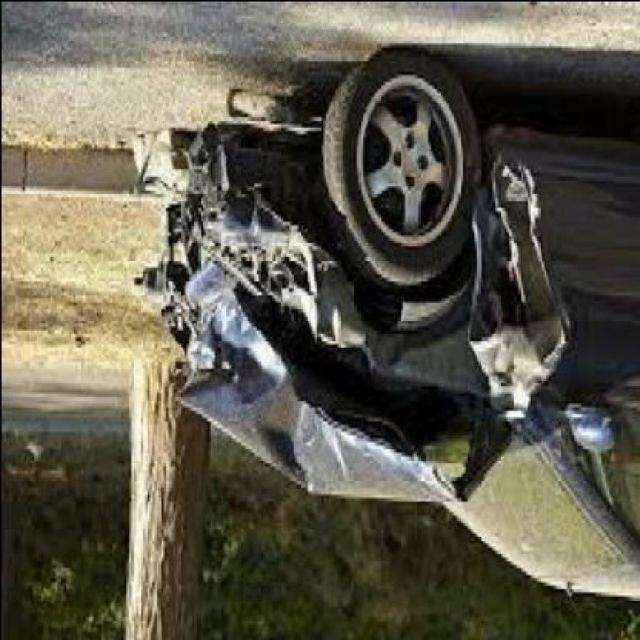damage: (134, 132, 570, 505)
